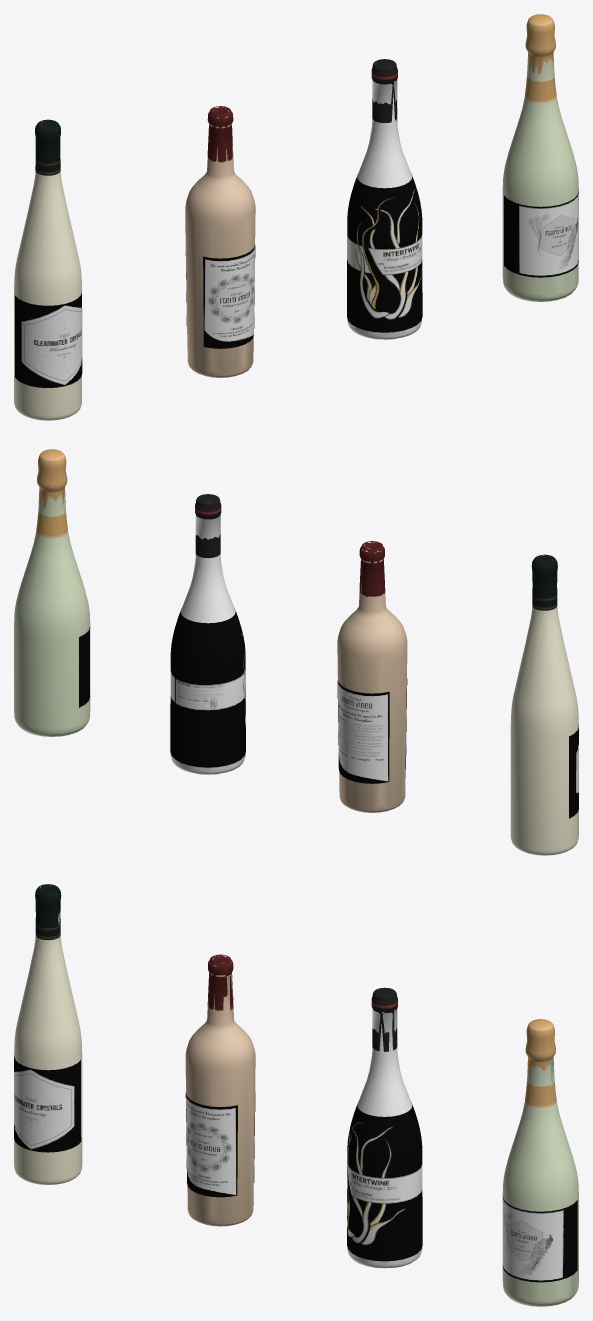
The model's file is wine_bottles_01.glb.
3 renders of one model, top to bottom at view 1: azimuth 30°, elevation 25°; view 2: azimuth 150°, elevation 25°; view 3: azimuth 330°, elevation 25°, orthographic.
Visible parts, largest first — view 1: wine_bottles_01_champagne, wine_bottles_01_alsace, wine_bottles_01_burgundy, wine_bottles_01_bordeaux; view 2: wine_bottles_01_champagne, wine_bottles_01_alsace, wine_bottles_01_burgundy, wine_bottles_01_bordeaux; view 3: wine_bottles_01_champagne, wine_bottles_01_alsace, wine_bottles_01_burgundy, wine_bottles_01_bordeaux.
Part boxes in pixels (bbox=[...]): wine_bottles_01_champagne: bbox=[502, 14, 578, 301]; wine_bottles_01_alsace: bbox=[14, 119, 82, 420]; wine_bottles_01_burgundy: bbox=[347, 59, 422, 339]; wine_bottles_01_bordeaux: bbox=[185, 106, 255, 377]; wine_bottles_01_champagne: bbox=[14, 449, 90, 736]; wine_bottles_01_alsace: bbox=[510, 554, 578, 855]; wine_bottles_01_burgundy: bbox=[170, 494, 245, 774]; wine_bottles_01_bordeaux: bbox=[337, 541, 407, 812]; wine_bottles_01_champagne: bbox=[502, 1019, 578, 1306]; wine_bottles_01_alsace: bbox=[14, 884, 82, 1184]; wine_bottles_01_burgundy: bbox=[347, 987, 422, 1268]; wine_bottles_01_bordeaux: bbox=[185, 954, 255, 1226].
Size of the model in its own units: 0.6763 by 0.3314 by 0.0805.
9 materials, 6 textured.
